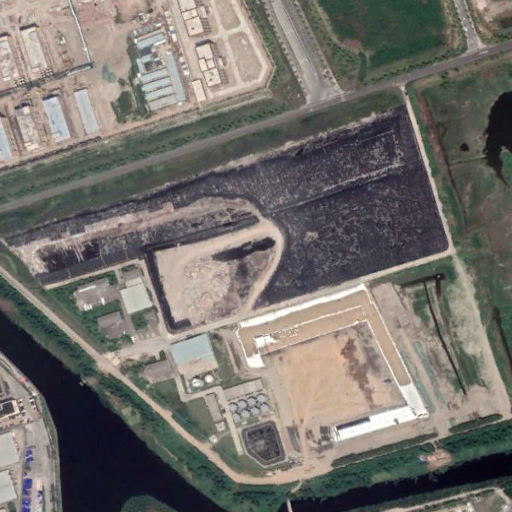lf: (7, 103, 455, 340)
